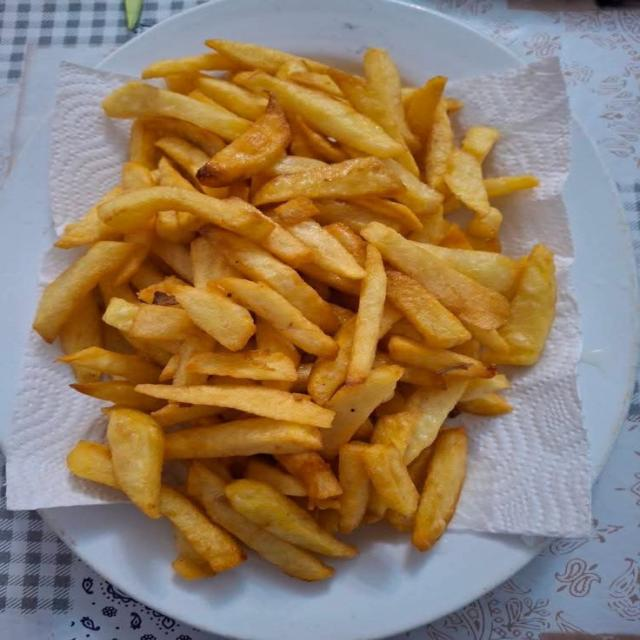potato fries: (34, 40, 555, 581), (187, 462, 333, 581), (362, 223, 509, 328), (234, 72, 403, 157), (218, 231, 337, 332), (226, 479, 357, 557), (34, 242, 135, 342), (99, 187, 273, 241), (217, 278, 336, 355), (136, 385, 334, 428), (103, 82, 249, 140), (197, 98, 290, 186), (491, 245, 556, 364), (160, 485, 245, 572), (274, 198, 365, 279), (323, 365, 402, 457), (254, 158, 403, 205), (387, 270, 471, 348), (413, 429, 466, 550), (107, 408, 164, 518), (165, 419, 319, 459), (347, 245, 386, 386), (173, 287, 254, 350), (405, 381, 467, 463), (420, 244, 518, 295), (389, 337, 494, 377), (308, 318, 355, 405), (206, 40, 329, 73), (256, 319, 310, 392), (363, 444, 418, 515), (60, 347, 159, 382), (277, 452, 342, 505), (187, 350, 297, 381), (198, 76, 267, 120), (445, 150, 489, 216), (71, 381, 163, 412), (405, 76, 446, 143), (340, 442, 369, 533), (425, 98, 453, 192), (60, 294, 102, 353), (67, 441, 119, 488), (141, 54, 240, 78), (245, 458, 306, 496), (172, 530, 214, 579), (462, 127, 499, 162), (484, 176, 539, 198), (459, 393, 512, 415)
